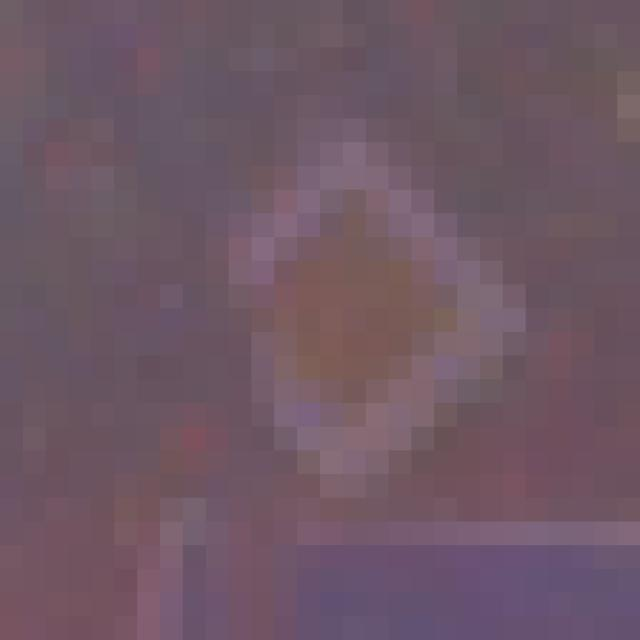Main Road: (138, 120, 527, 523)
